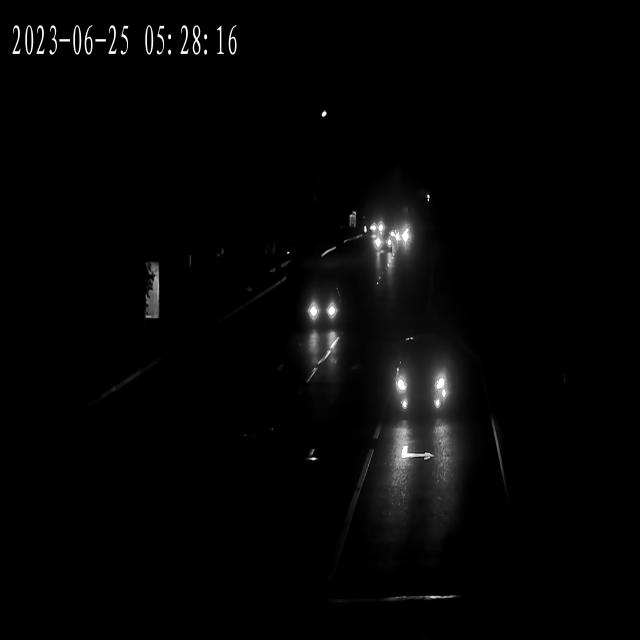Car: (392, 334, 453, 415), (307, 276, 342, 335), (376, 236, 394, 260), (391, 220, 409, 242), (365, 218, 384, 238)
